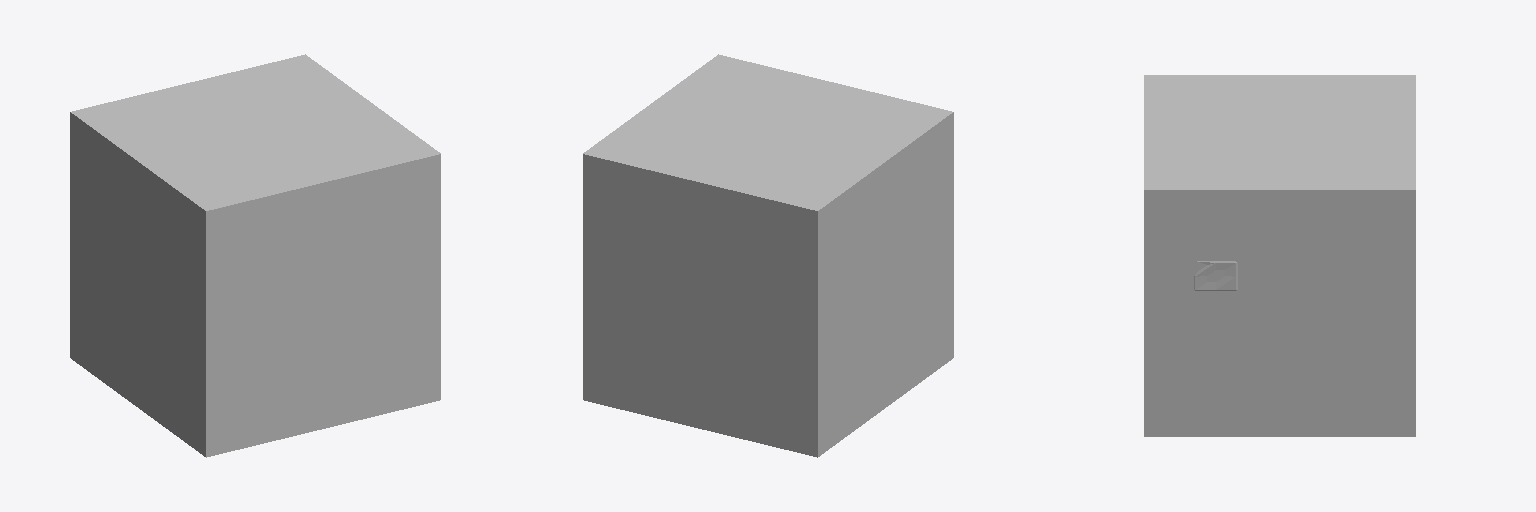
The model's file is pieceI_simple.obj.
3 renders of one model, left to right at view 1: azimuth 30°, elevation 25°; view 2: azimuth 150°, elevation 25°; view 3: azimuth 270°, elevation 25°, orthographic.
Visible parts, largest first — view 1: Cube, Cube.001_Cube.003; view 2: Cube, Cube.001_Cube.003; view 3: Cube, Cube.002_Cube.006, Cube.001_Cube.003.
Part boxes in pixels (x1,y1,x2,y2): Cube: (70, 54, 440, 457); Cube.001_Cube.003: (122, 256, 153, 415); Cube: (583, 54, 953, 457); Cube.001_Cube.003: (870, 261, 899, 415); Cube: (1144, 75, 1415, 436); Cube.002_Cube.006: (1194, 261, 1237, 290); Cube.001_Cube.003: (1248, 296, 1311, 391).
Size of the model in its own units: 6.01 by 6 by 6.